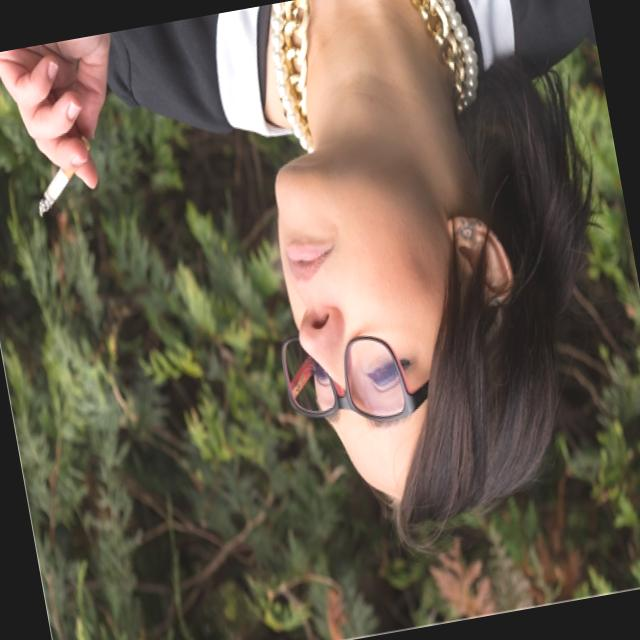cigarette: (24, 130, 106, 224)
